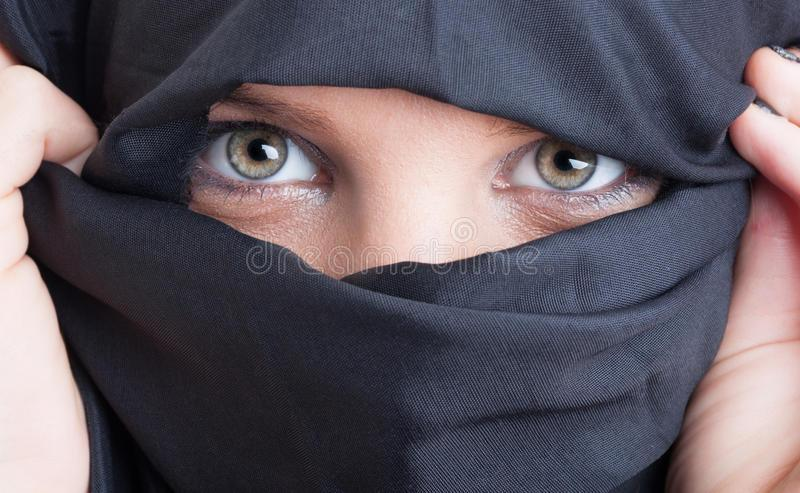No Mask: (66, 3, 756, 493)
